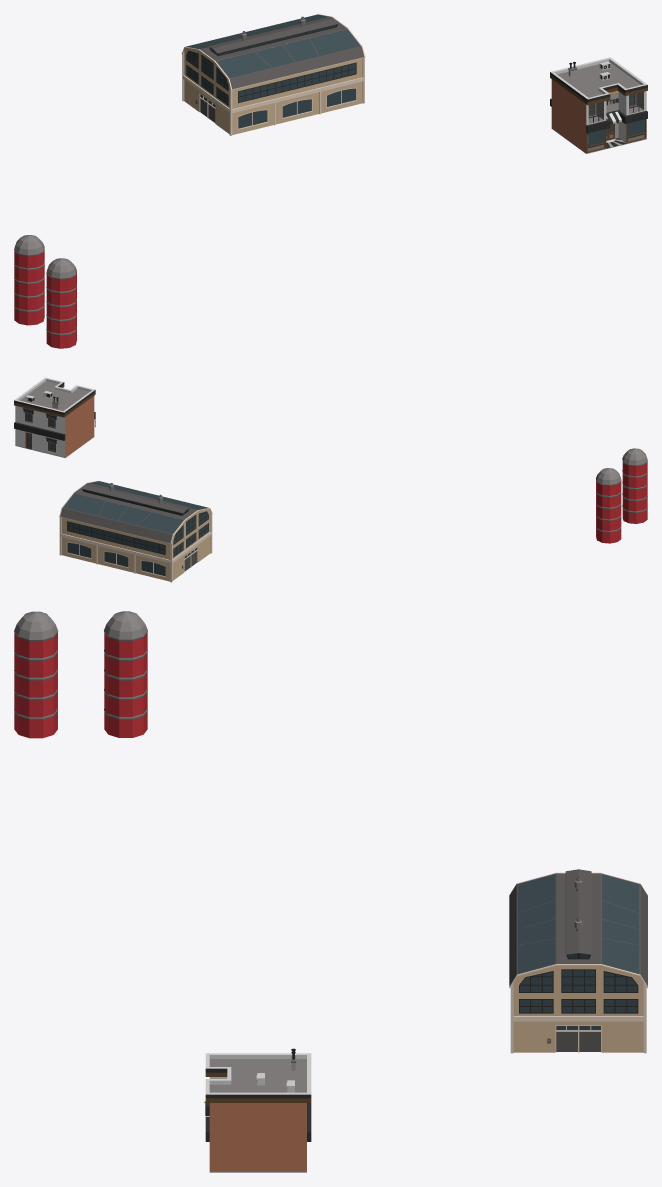
File: farm-buildings.glb
3 renders of one model, top to bottom at view 1: azimuth 30°, elevation 25°; view 2: azimuth 150°, elevation 25°; view 3: azimuth 270°, elevation 25°, orthographic. The views are drawn at different scales.
Parts seen in each view (by area): view 1: industry-factory-hall, building-tattoo, farm-silo.001, farm-silo; view 2: industry-factory-hall, building-tattoo, farm-silo.001, farm-silo; view 3: industry-factory-hall, building-tattoo, farm-silo.001, farm-silo.
Part boxes in pixels (bbox=[...]): industry-factory-hall: bbox=[181, 14, 365, 135]; building-tattoo: bbox=[550, 57, 647, 153]; farm-silo.001: bbox=[46, 258, 76, 348]; farm-silo: bbox=[14, 235, 44, 325]; industry-factory-hall: bbox=[59, 481, 212, 582]; building-tattoo: bbox=[14, 377, 95, 457]; farm-silo.001: bbox=[622, 448, 647, 523]; farm-silo: bbox=[596, 468, 621, 543]; industry-factory-hall: bbox=[509, 869, 647, 1053]; building-tattoo: bbox=[204, 1048, 311, 1172]; farm-silo.001: bbox=[14, 611, 58, 738]; farm-silo: bbox=[104, 611, 147, 737].
Bounding box in the file's own units: 98.59 × 11.94 × 58.43.
